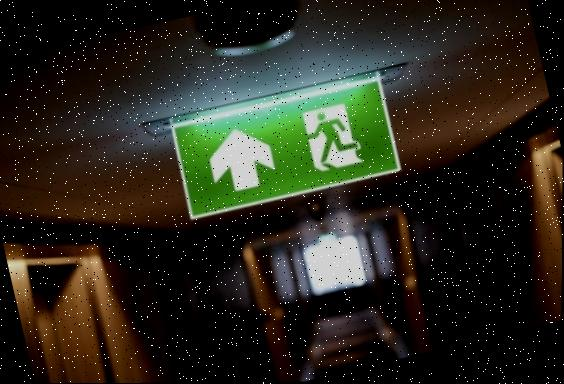emergency_exit: (169, 67, 403, 221)
